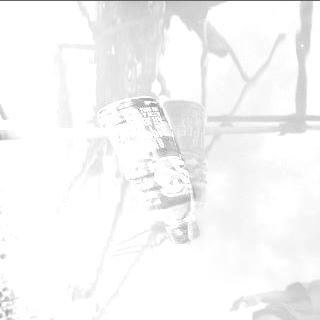bottle: (94, 90, 203, 244)
